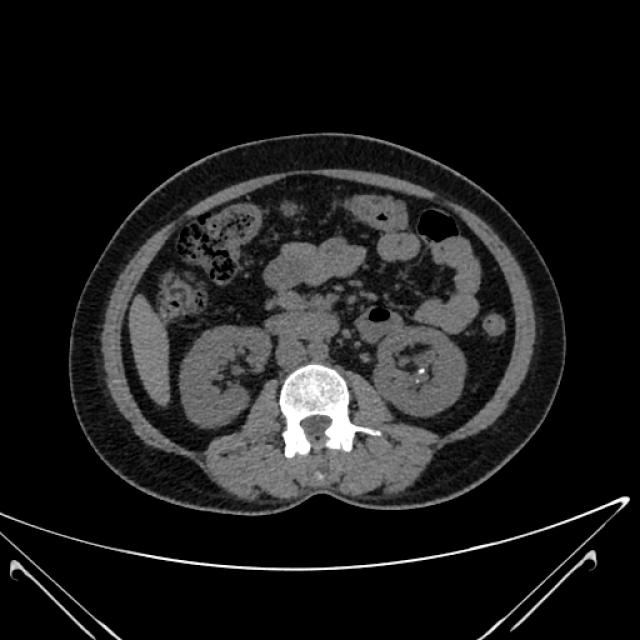kidney: (180, 320, 278, 428), (374, 325, 468, 431)
stone: (418, 363, 427, 378)
